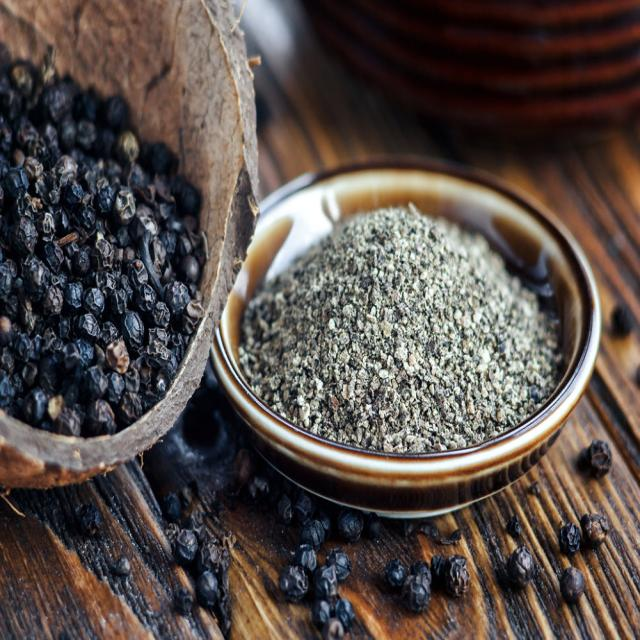Black pepper: (0, 34, 208, 443), (493, 497, 612, 619), (253, 500, 355, 640), (154, 473, 236, 640), (379, 544, 479, 630), (583, 428, 621, 504)
